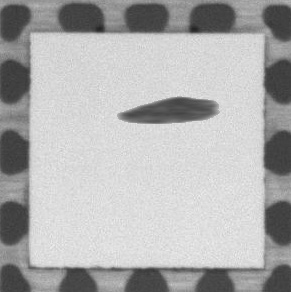DIE_INK: (114, 95, 226, 126)
